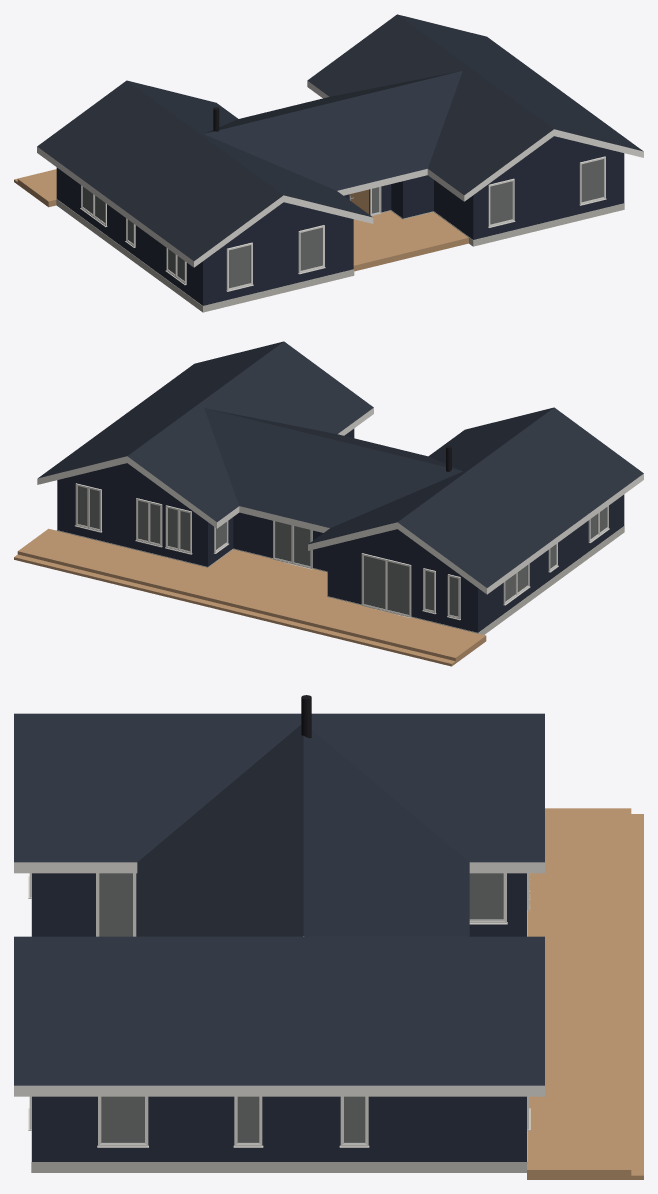
The model's file is teder_c0_p0_m0.glb.
3 views of the same model, one above another, from view 1: azimuth 30°, elevation 25°; view 2: azimuth 150°, elevation 25°; view 3: azimuth 270°, elevation 25° (orthographic). The views are drawn at different scales.
Visible parts, largest first — view 1: roof, wall, deck, fascia, glass, curtain, plinth, frame; view 2: roof, deck, wall, glass, curtain, fascia, frame, plinth; view 3: roof, deck, wall, fascia, glass, curtain, plinth, frame.
Boxes of the visible parts, x1,y1,x2,y2 form: roof: (37,14,643,260); wall: (56,136,624,305); deck: (14,169,468,271); fascia: (37,81,643,267); glass: (82,159,603,288); curtain: (83,159,603,287); plinth: (56,199,624,312); frame: (80,156,606,291); roof: (38,341,643,587); deck: (14,528,486,666); wall: (57,428,624,632); glass: (77,486,607,616); curtain: (78,486,606,616); fascia: (37,408,643,594); frame: (75,483,609,620); plinth: (56,526,624,634); roof: (14,713,544,1085); deck: (527,808,643,1179); wall: (32,873,526,1161); fascia: (14,862,544,1096); glass: (99,873,503,1142); curtain: (99,873,503,1142); plinth: (31,899,527,1172); frame: (28,873,530,1147).
Bounding box in the file's own units: 21.93 × 5.66 × 15.72.
Materials: 12 (5 with a texture image).
